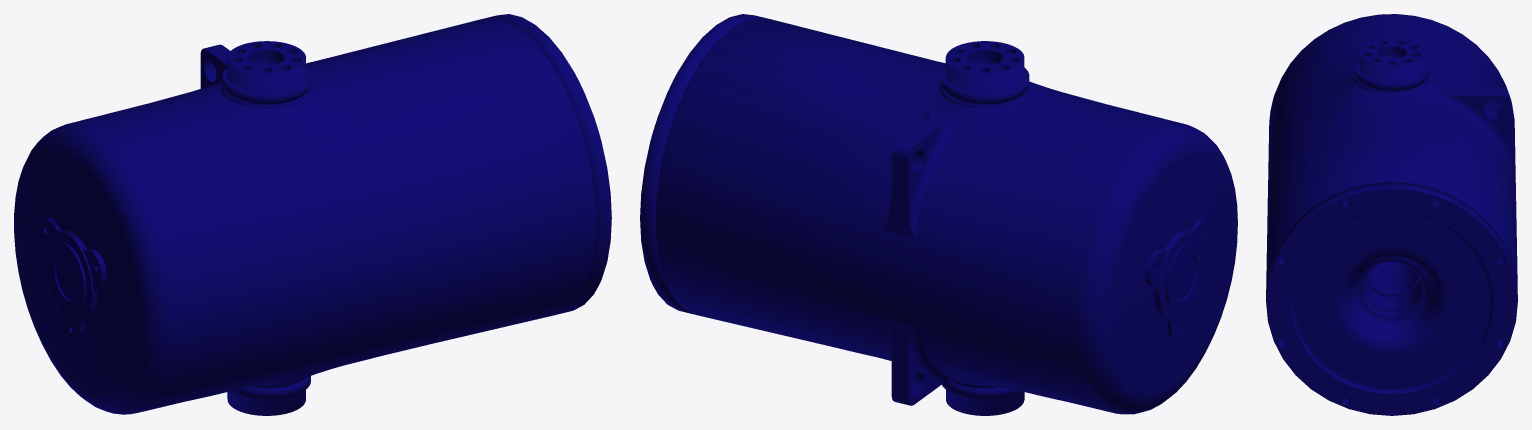
File: CWeight.dae
3 views of the same model, side by side, from view 1: azimuth 30°, elevation 25°; view 2: azimuth 150°, elevation 25°; view 3: azimuth 270°, elevation 25° (orthographic). The views are drawn at different scales.
Visible parts, largest first — view 1: ES165D CWeight; view 2: ES165D CWeight; view 3: ES165D CWeight.
Part boxes in pixels (x1,y1,x2,y2): ES165D CWeight: (14,14,611,415); ES165D CWeight: (640,14,1237,415); ES165D CWeight: (1266,14,1517,415).
Bounding box in the file's own units: 0.551 × 0.31 × 0.383.
